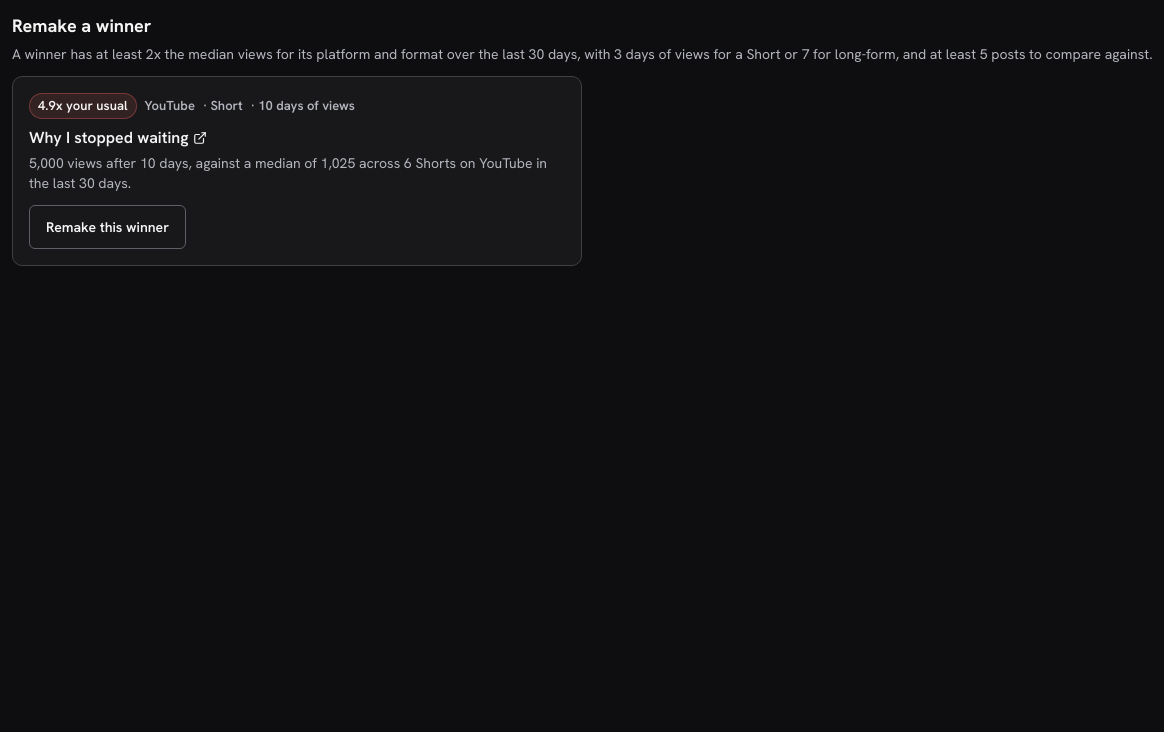
Test: winners panel: remake › Remake this winner offers a sequel, a fresh application or an experiment, with a one-sentence hypothesis, and creates the draft once
The image size is (1164, 732).
Later steps or results of the test are not shown.
Click the button "Remake this winner": (108, 226) [29,204,186,248]
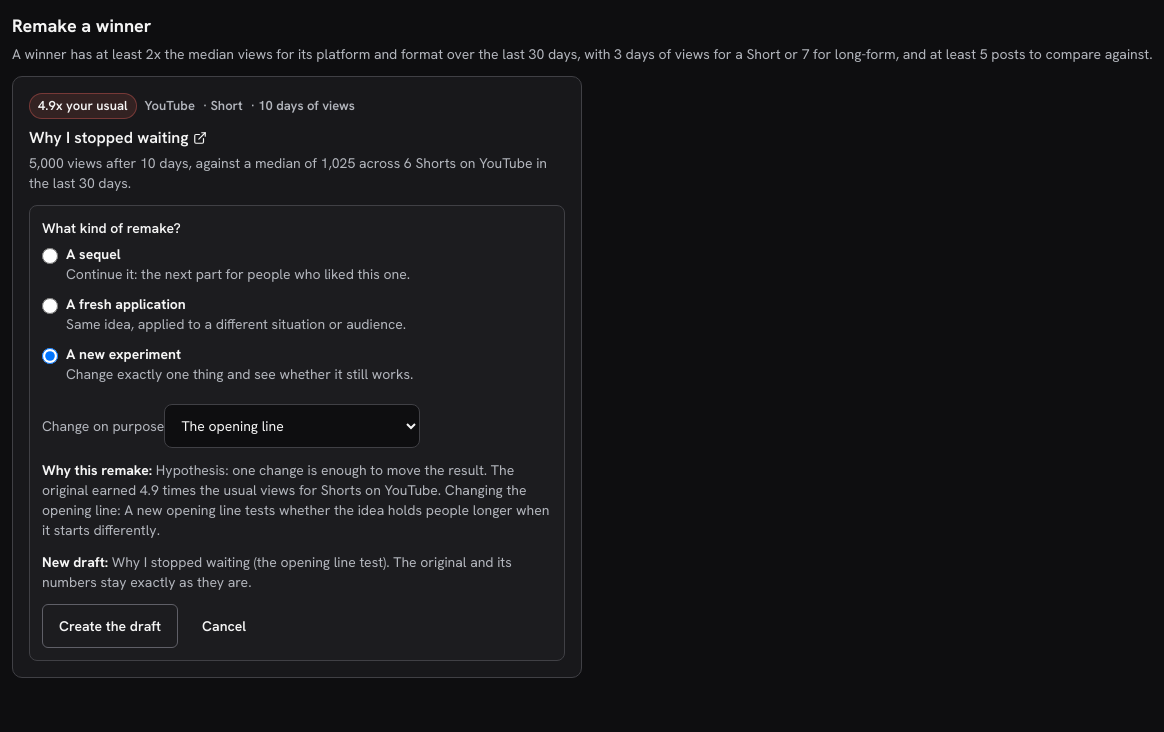
Expected: the text "A sequel" is shown, [66,244,121,262]
Expected: the text "A fresh application" is shown, [66,294,186,312]
Expected: the text "A new experiment" is shown, [66,344,181,362]
Click the radio button labelled "A sequel": (50, 256) [42,248,58,264]
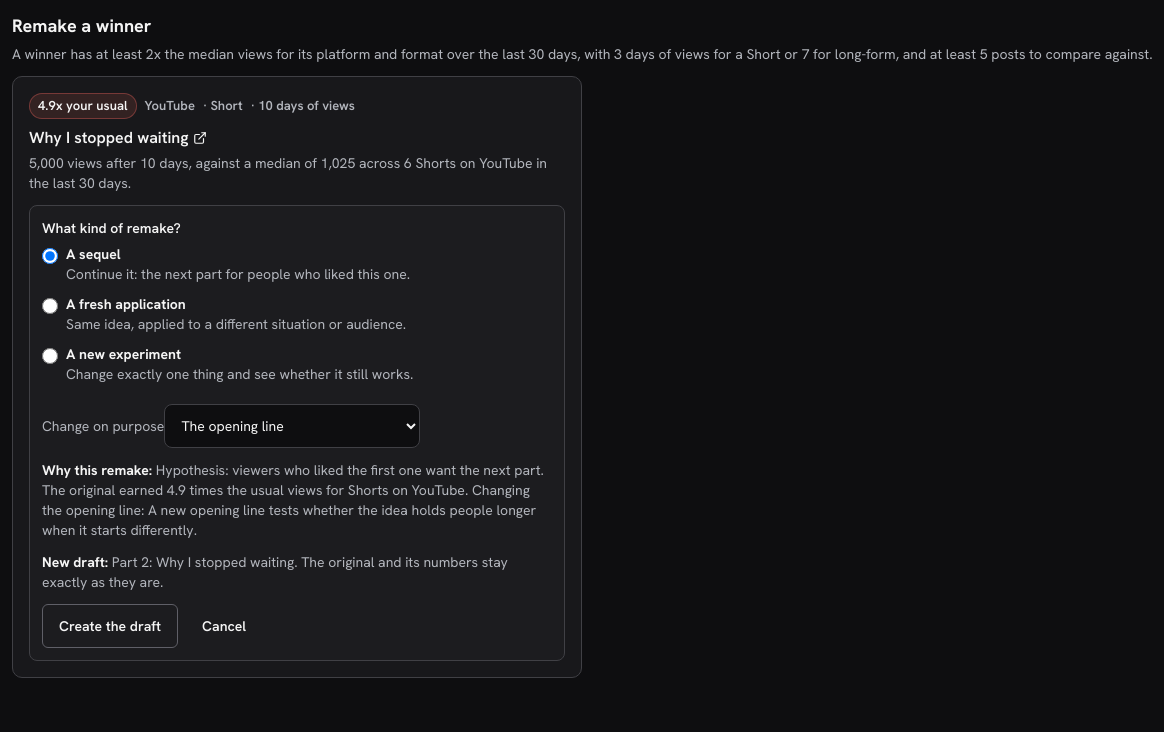
Select "The example" in the dropdown labelled "Change on purpose": (292, 426) [164,404,420,448]
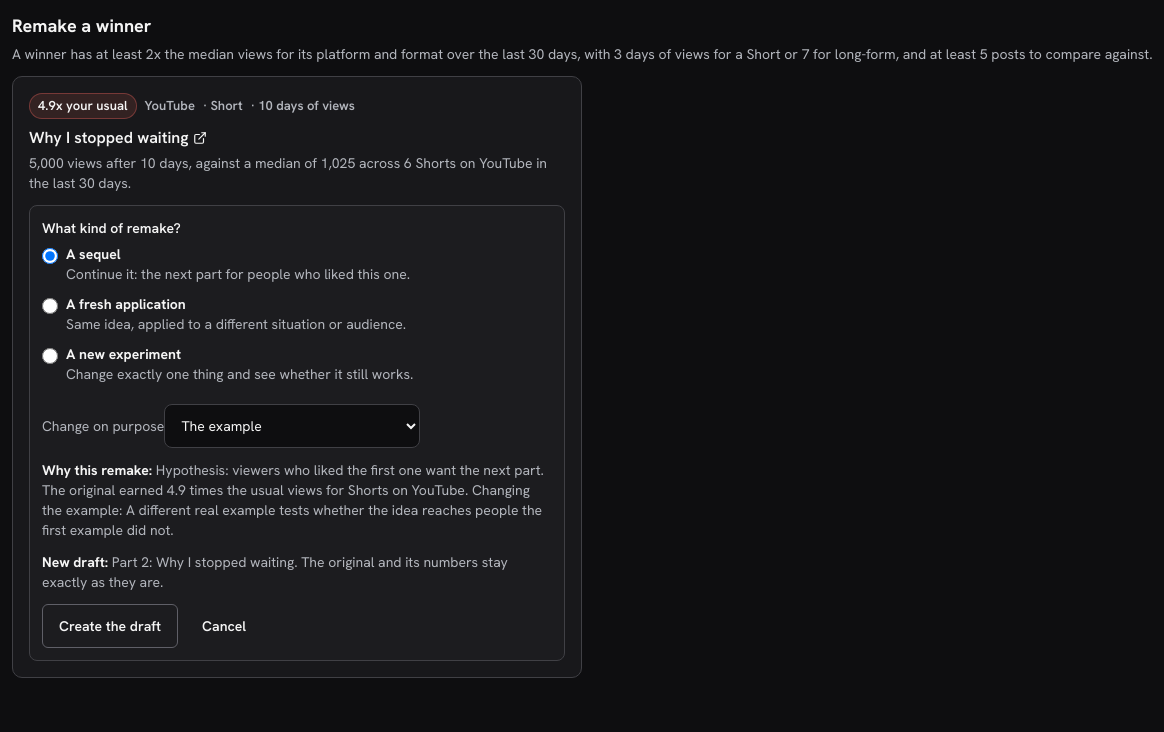
Expected: the element named "Remake options" shows "Part 2: Why I stopped waiting", [112,552,294,570]
